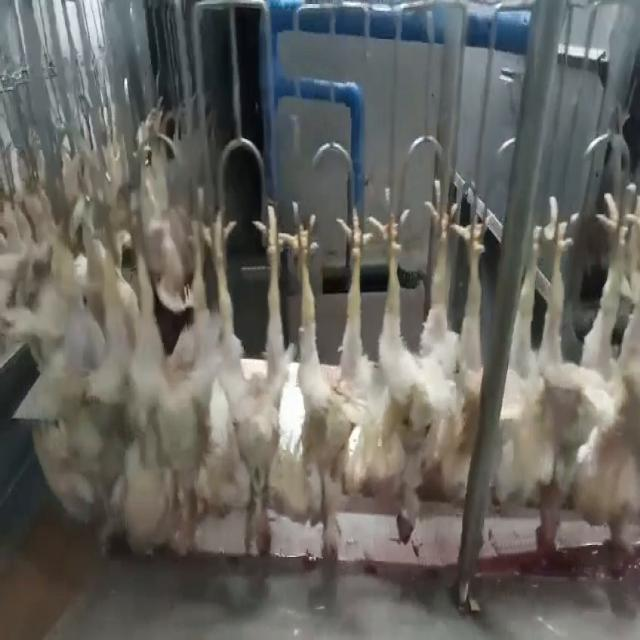chicken: (368, 173, 464, 548), (124, 188, 214, 564), (289, 204, 379, 566), (499, 198, 578, 577), (211, 195, 291, 564), (567, 198, 639, 573), (45, 197, 119, 525), (440, 200, 490, 512)
